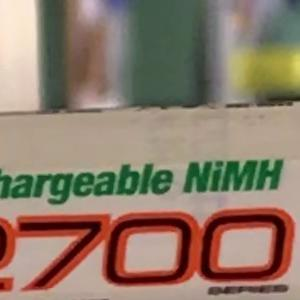NIMH: (173, 150, 293, 203)
